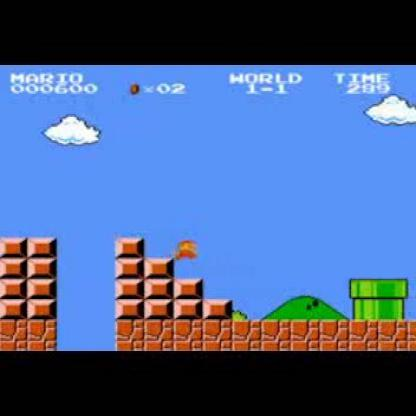Hoyo: (52, 320, 119, 350)
